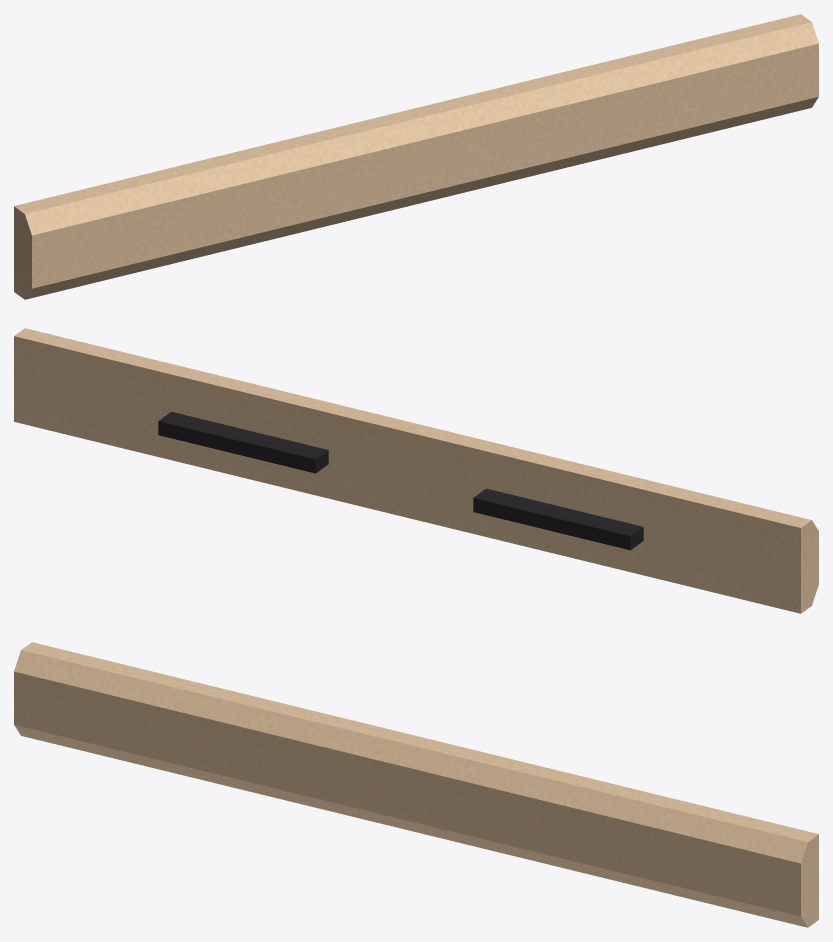
Rendered from SM_Handrail_Full.fbx.
The picture shows the model from 3 angles, top to bottom: view 1: azimuth 30°, elevation 25°; view 2: azimuth 150°, elevation 25°; view 3: azimuth 330°, elevation 25°; orthographic projection.
Visible parts, largest first — view 1: SM_Handrail_Full; view 2: SM_Handrail_Full; view 3: SM_Handrail_Full.
Part boxes in pixels (x1,y1,x2,y2): SM_Handrail_Full: [14, 14, 818, 299]; SM_Handrail_Full: [14, 328, 818, 613]; SM_Handrail_Full: [14, 642, 818, 927].
Size of the model in its own units: 3 by 0.3122 by 0.2046.
